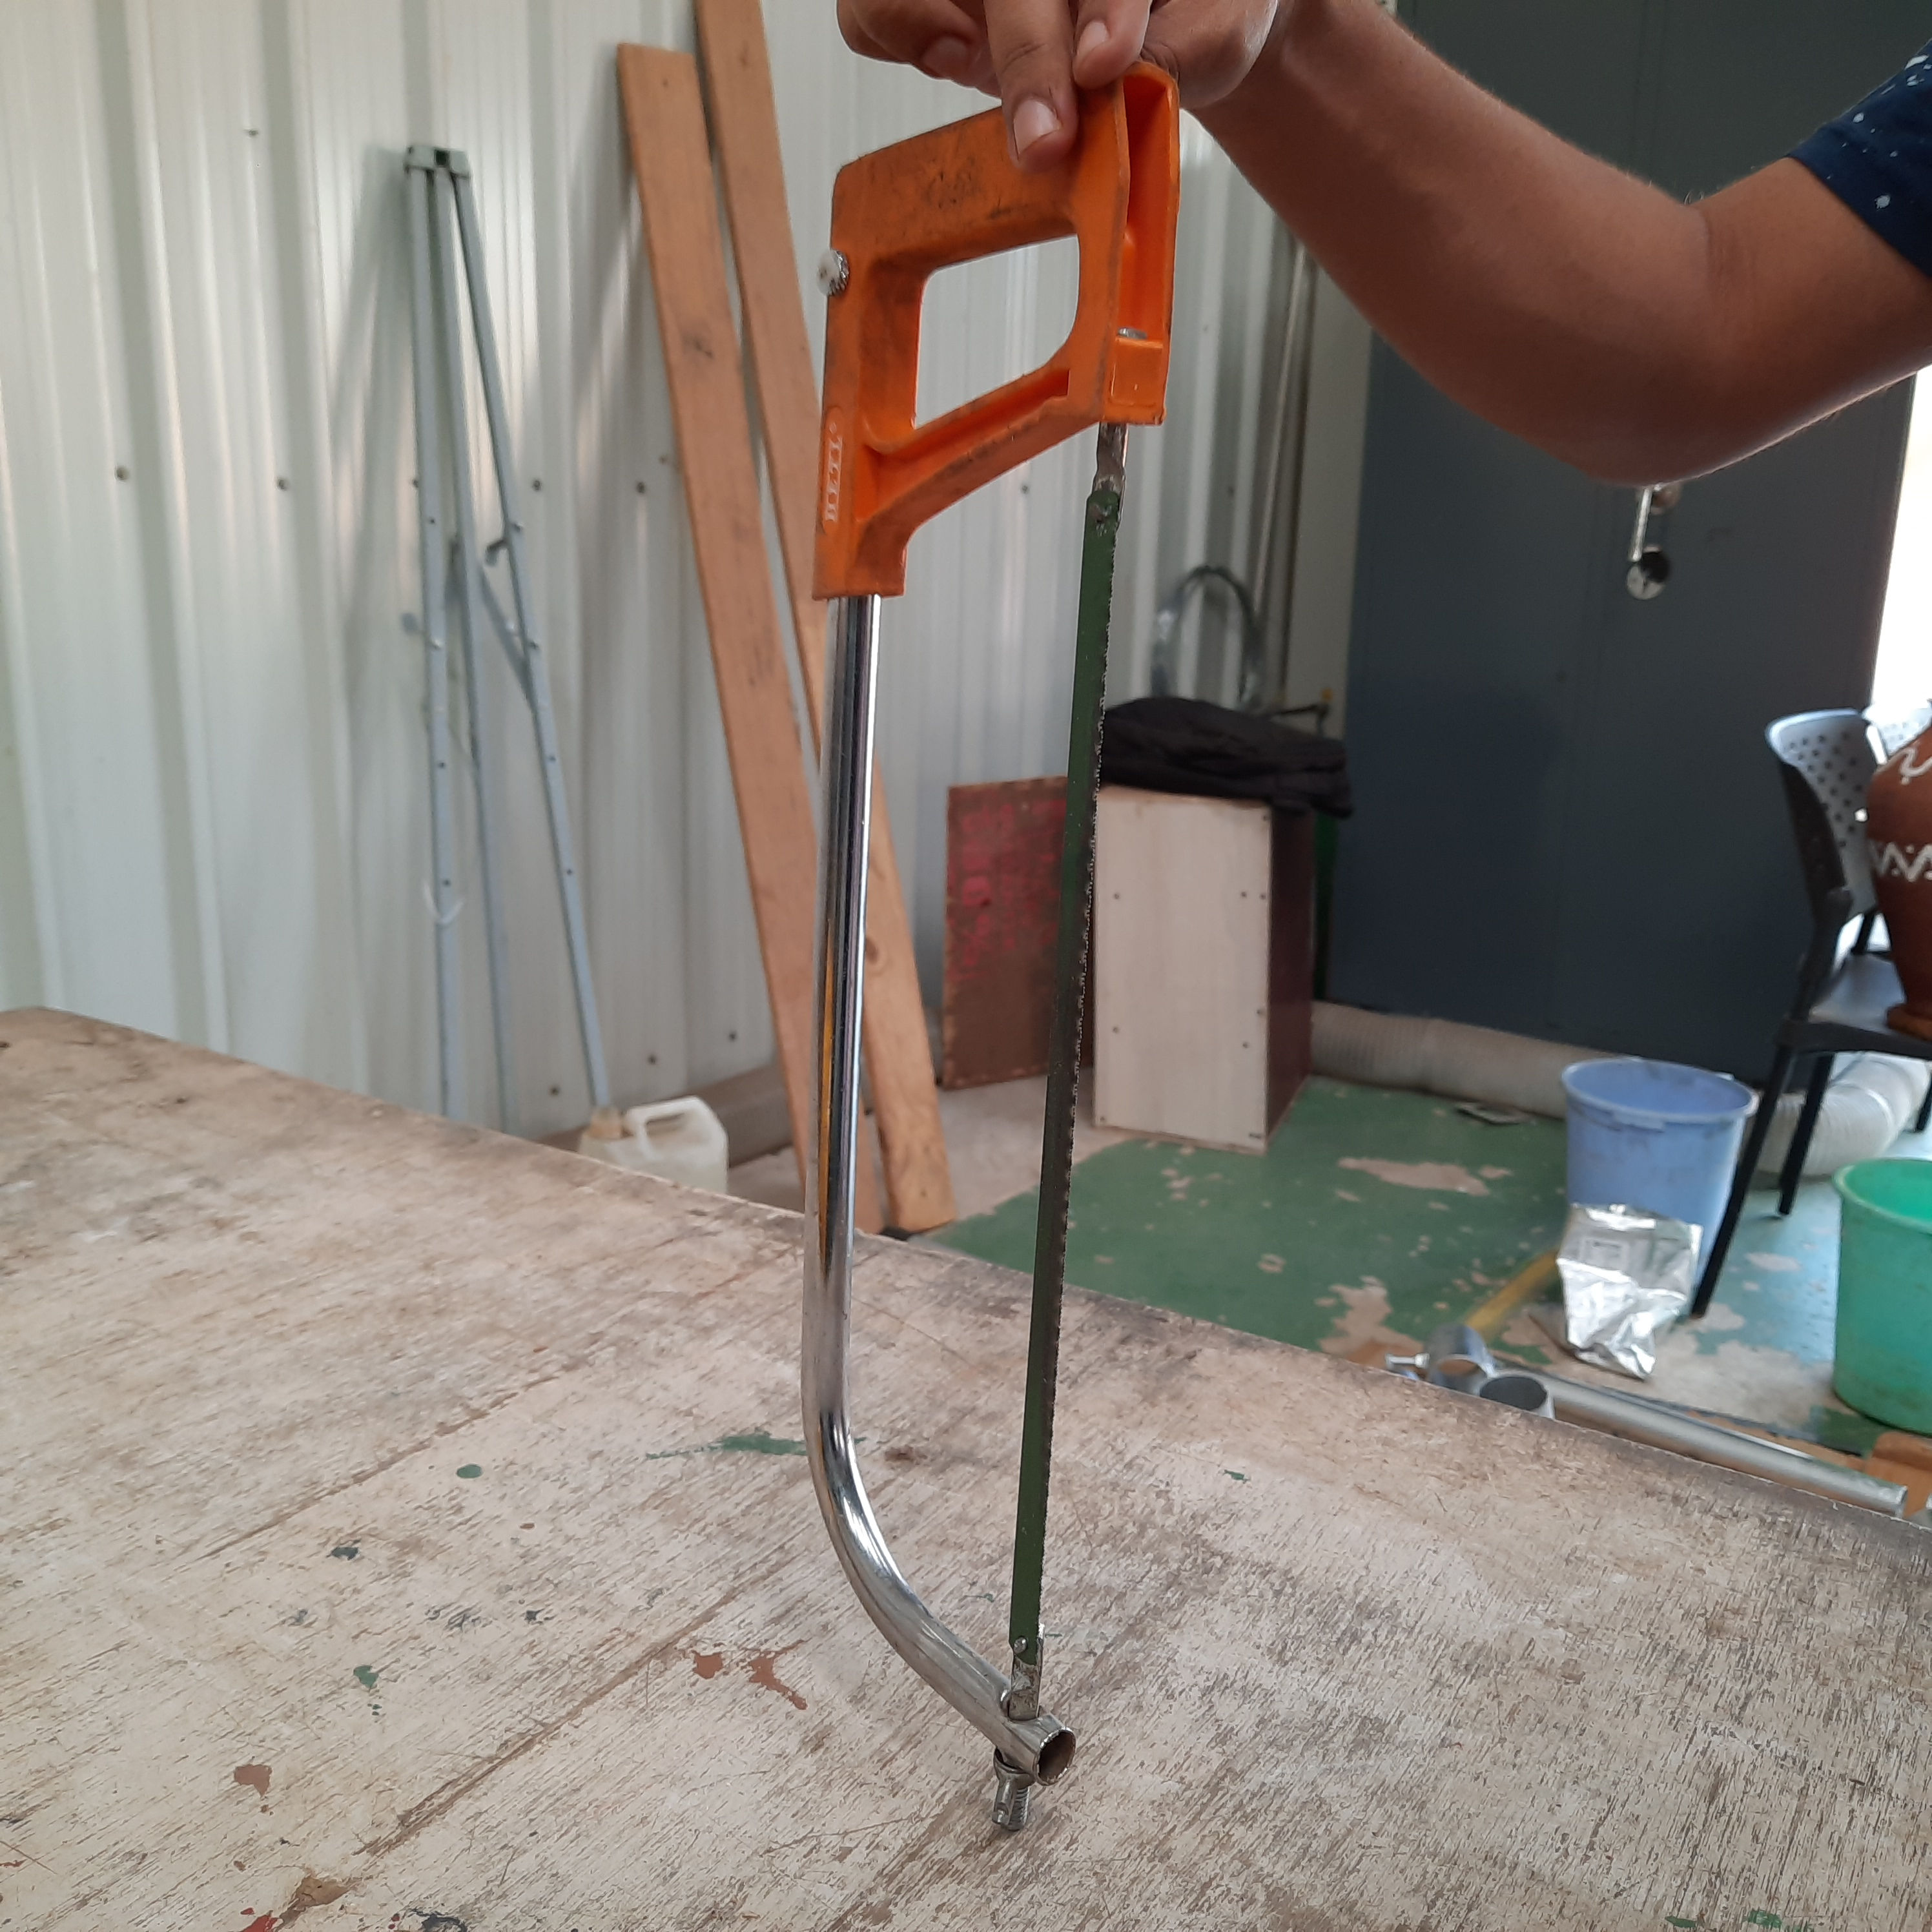Hexaframe: (791, 96, 1177, 1775)
